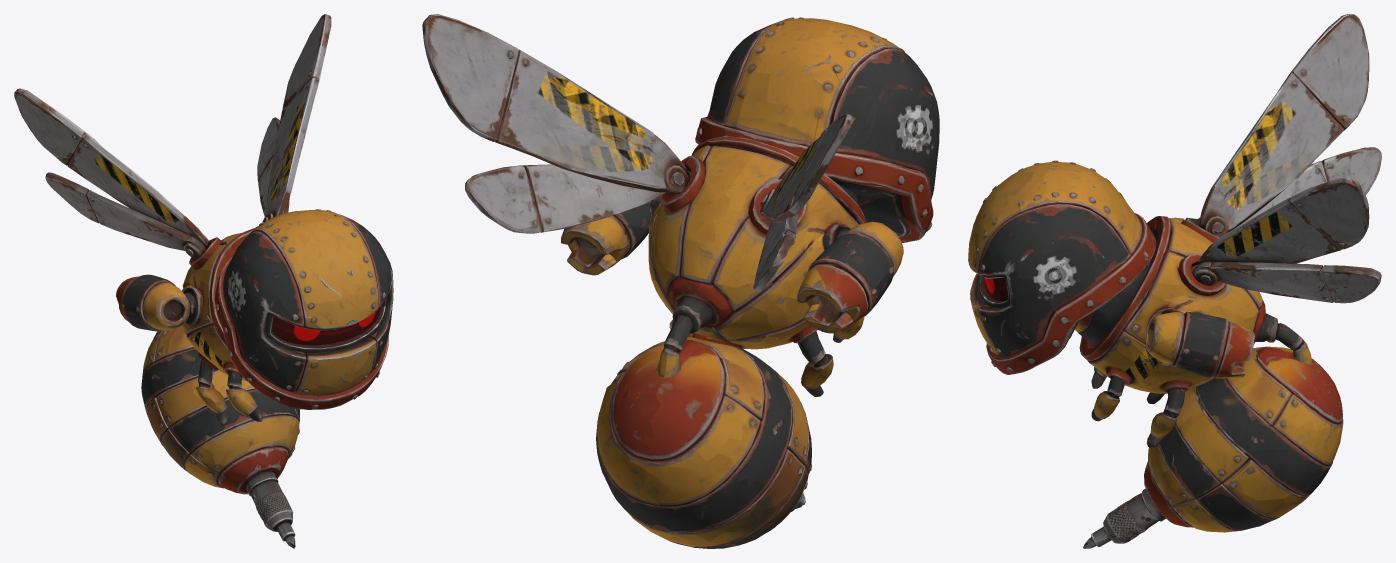
File: hornet.glb
The picture shows the model from 3 angles, left to right: view 1: azimuth 30°, elevation 25°; view 2: azimuth 150°, elevation 25°; view 3: azimuth 270°, elevation 25°; orthographic projection. The views are drawn at different scales.
Visible parts, largest first — view 1: hornet_body, hornet_wing_R, hornet_wing_L; view 2: hornet_body, hornet_wing_L, hornet_wing_R; view 3: hornet_body, hornet_wing_R, hornet_wing_L.
Boxes of the visible parts, bbox=[...] form: hornet_body: bbox=[101, 108, 393, 548]; hornet_wing_R: bbox=[14, 88, 167, 247]; hornet_wing_L: bbox=[257, 14, 331, 213]; hornet_body: bbox=[560, 17, 939, 548]; hornet_wing_L: bbox=[422, 14, 624, 233]; hornet_wing_R: bbox=[753, 113, 855, 291]; hornet_body: bbox=[968, 95, 1343, 548]; hornet_wing_R: bbox=[1251, 14, 1381, 203]; hornet_wing_L: bbox=[1255, 177, 1381, 303].
Bounding box in the file's own units: 1.28 × 1.6 × 1.33.
Materials: 1 (1 with a texture image).
